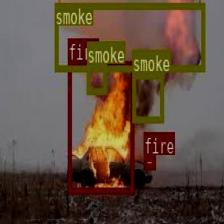fire: (68, 60, 134, 193), (144, 154, 155, 168)
smoke: (55, 2, 204, 71), (132, 71, 163, 121), (86, 63, 106, 94)
